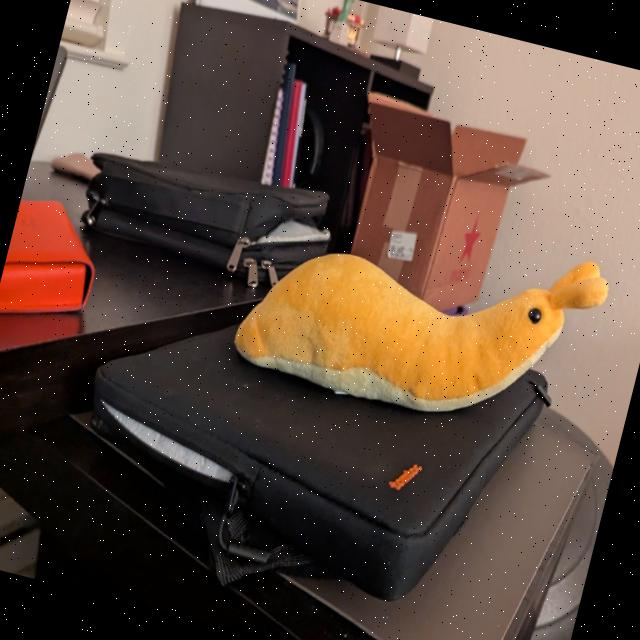banana-slug-toy: (227, 180, 622, 456)
